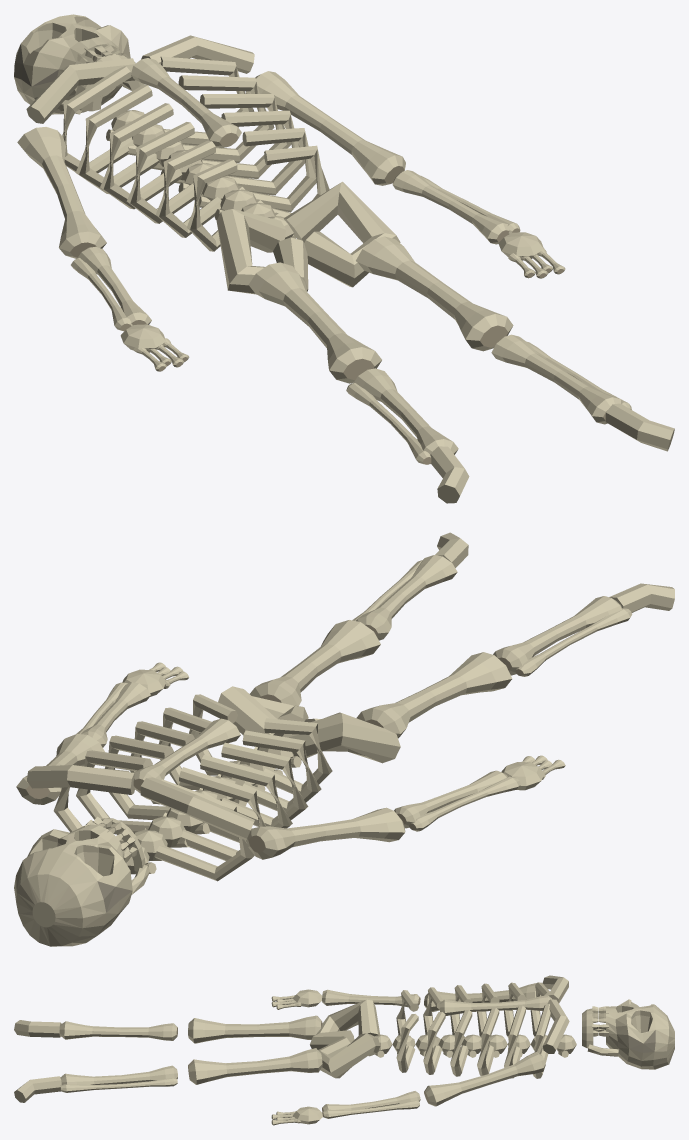
File: PROP_13_SkeletonRemains.glb
3 renders of one model, top to bottom at view 1: azimuth 30°, elevation 25°; view 2: azimuth 150°, elevation 25°; view 3: azimuth 270°, elevation 25°, orthographic. The views are drawn at different scales.
Visible parts, largest first — view 1: PROP_13_SkeletonRemains; view 2: PROP_13_SkeletonRemains; view 3: PROP_13_SkeletonRemains.
Part boxes in pixels (box(x1,y1,x2,y2)): PROP_13_SkeletonRemains: box(14, 14, 674, 503); PROP_13_SkeletonRemains: box(14, 532, 674, 946); PROP_13_SkeletonRemains: box(14, 975, 674, 1125).
Bounding box in the file's own units: 1.05 × 0.2759 × 2.27.
